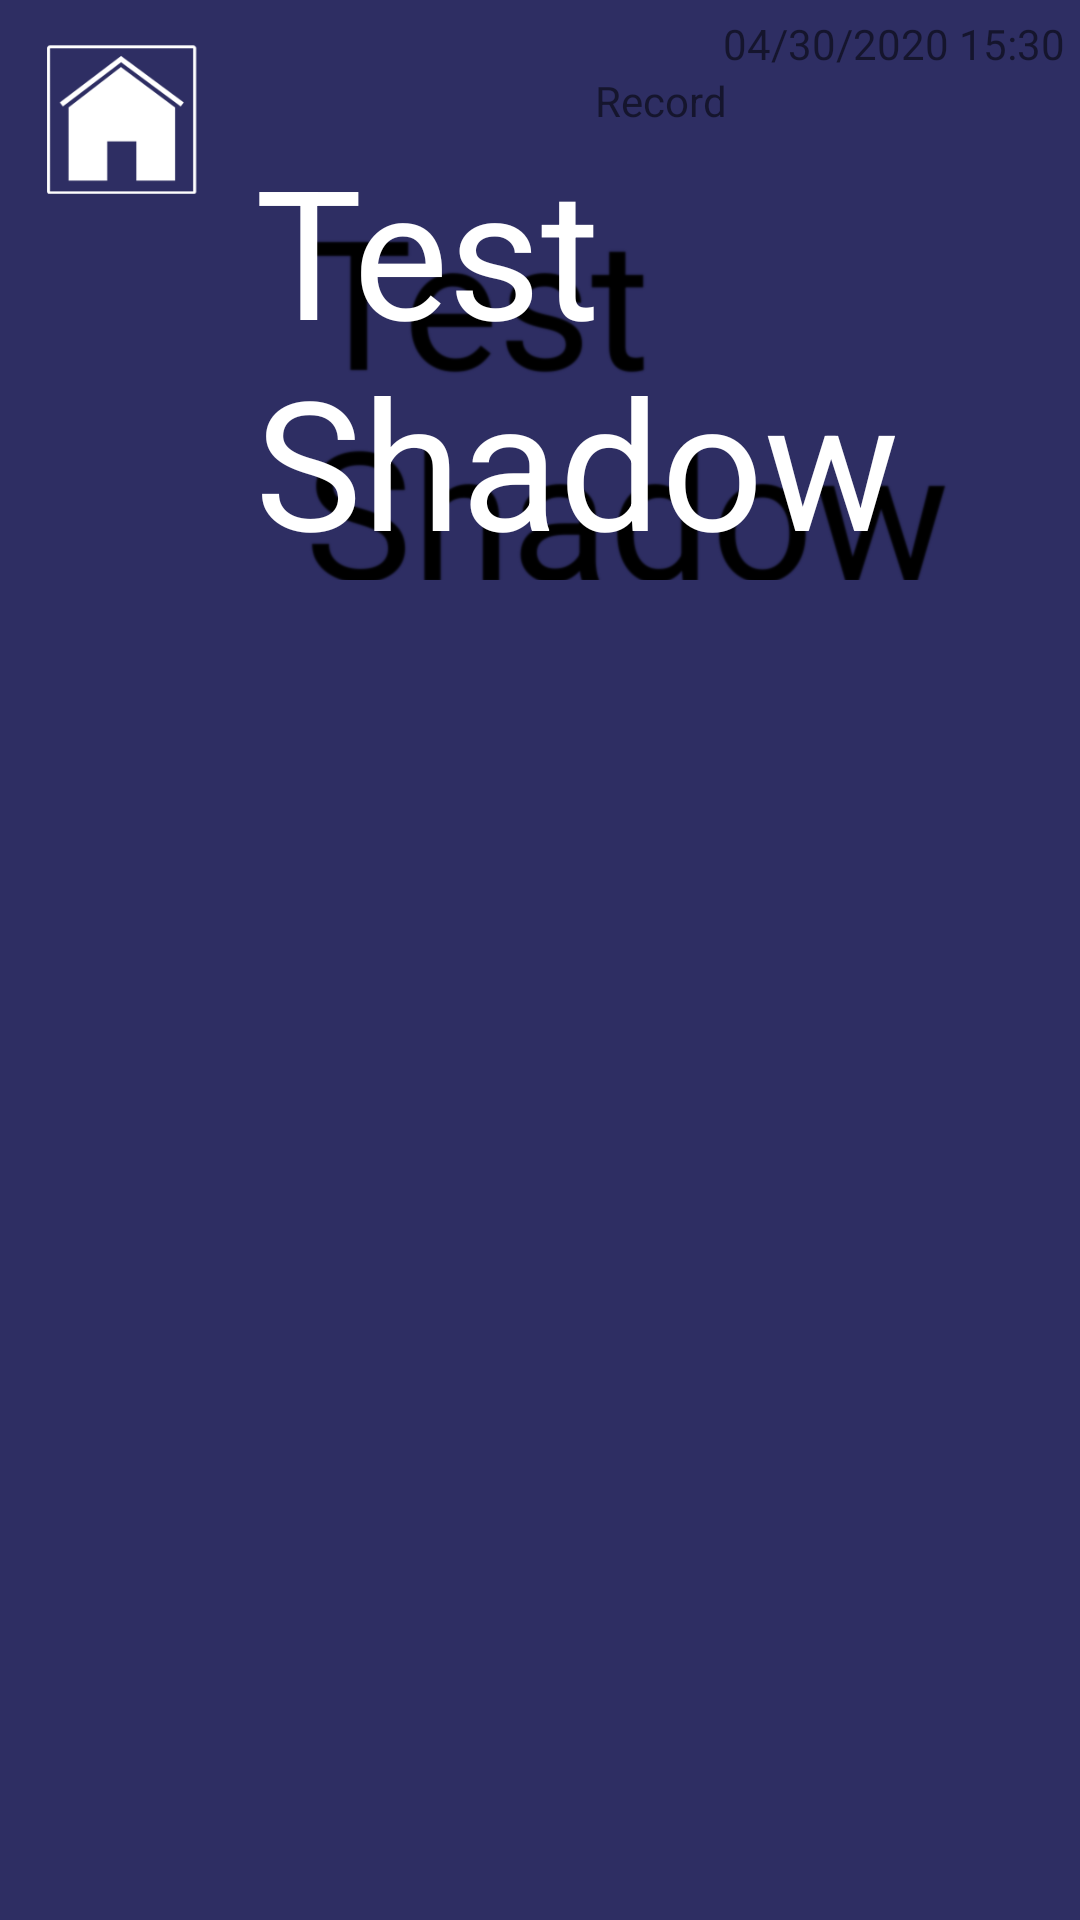

Icon click points for this 1080w x 1920h phone screenshot, format [x,y]:
home: [122,119]
